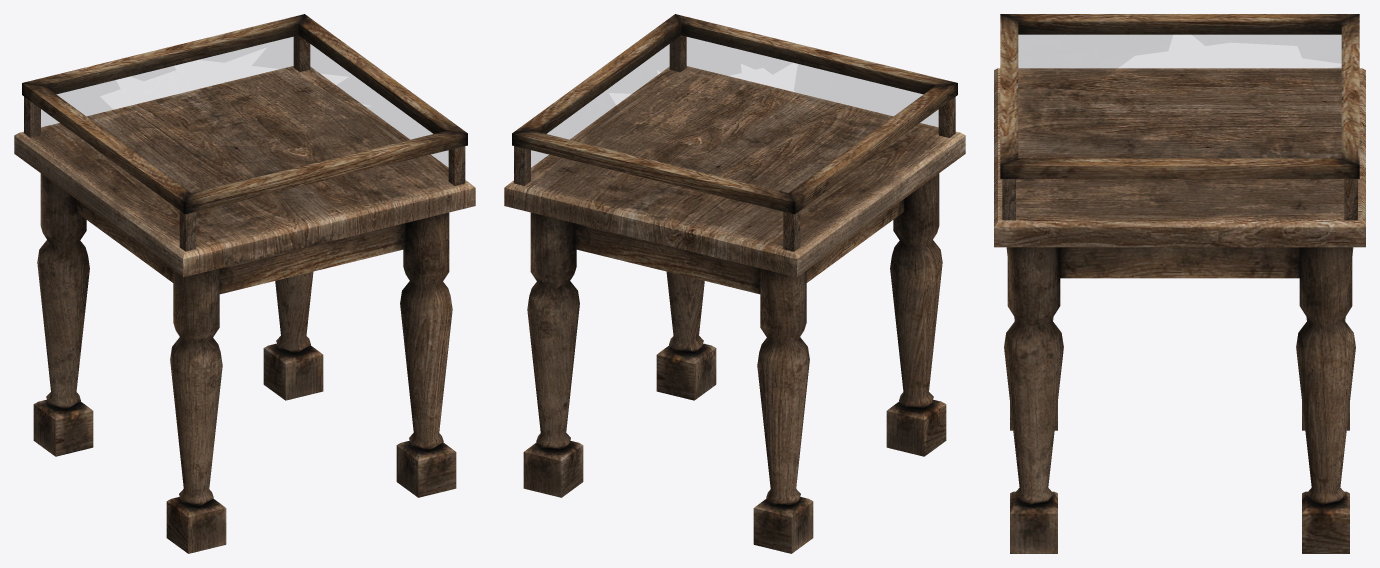
Rendered from display_broken.dae.
3 renders of one model, left to right at view 1: azimuth 30°, elevation 25°; view 2: azimuth 150°, elevation 25°; view 3: azimuth 270°, elevation 25°, orthographic. The views are drawn at different scales.
Parts seen in each view (by area): view 1: display, display_glas_broken; view 2: display, display_glas_broken; view 3: display, display_glas_broken.
Boxes of the visible parts, x1,y1,x2,y2 form: display: [14, 14, 475, 553]; display_glas_broken: [41, 36, 448, 179]; display: [504, 14, 965, 553]; display_glas_broken: [531, 36, 938, 205]; display: [994, 14, 1365, 553]; display_glas_broken: [1019, 35, 1340, 188].
Size of the model in its own units: 0.8 by 0.931 by 0.8.
